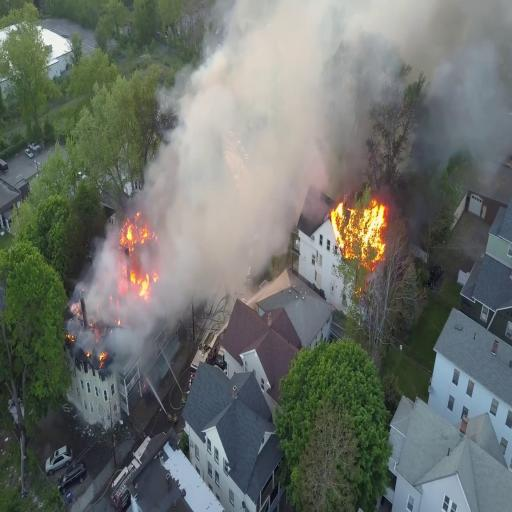fire: (333, 198, 389, 272), (117, 259, 155, 305), (120, 210, 152, 246)
